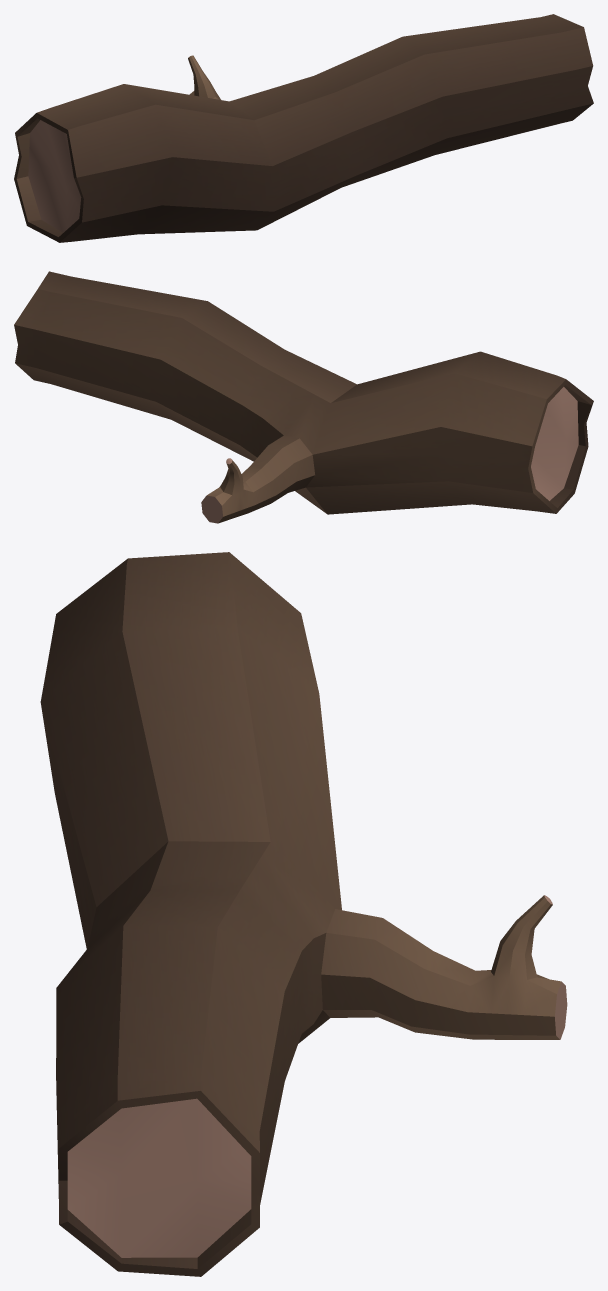
File: Baumstamm 1.fbx
The picture shows the model from 3 angles, top to bottom: view 1: azimuth 30°, elevation 25°; view 2: azimuth 150°, elevation 25°; view 3: azimuth 270°, elevation 25°; orthographic projection. The views are drawn at different scales.
Visible parts, largest first — view 1: Circle; view 2: Circle; view 3: Circle.
Part boxes in pixels (x1=…): Circle: x1=14, y1=14, x2=593, y2=242; Circle: x1=14, y1=271, x2=593, y2=523; Circle: x1=40, y1=552, x2=567, y2=1276.
Size of the model in its own units: 535 by 157 by 231.
